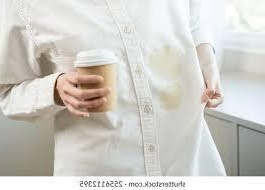coffee: (149, 49, 181, 79), (160, 83, 182, 110)
